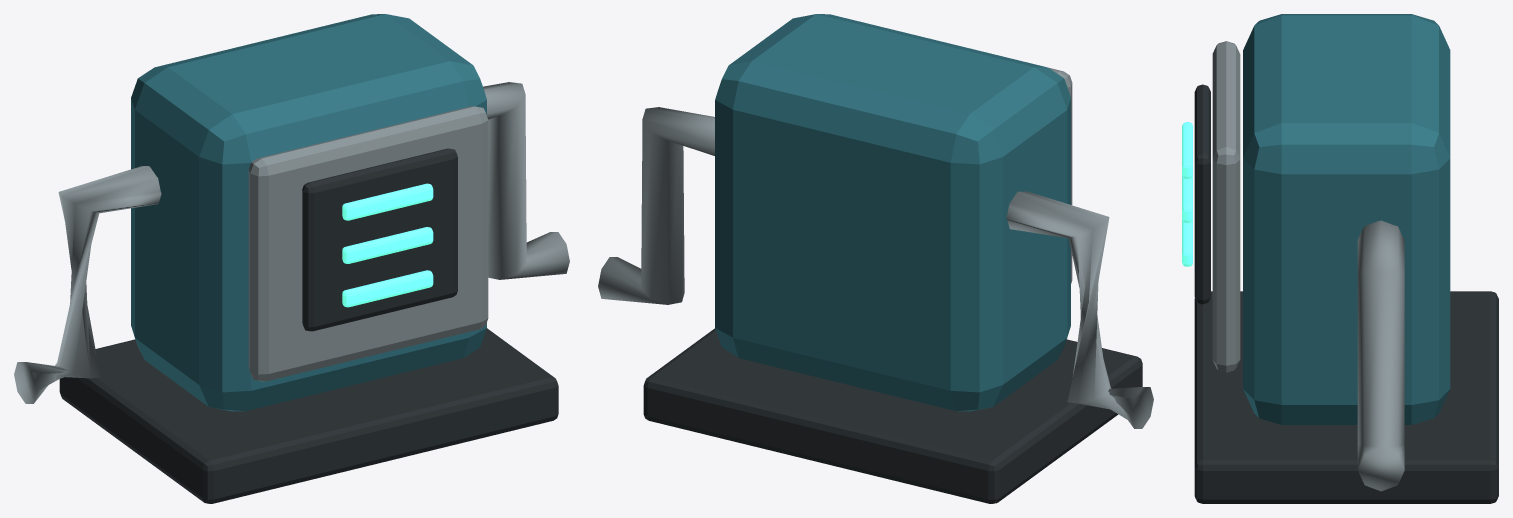
File: water-witness-b03.glb
3 renders of one model, left to right at view 1: azimuth 30°, elevation 25°; view 2: azimuth 150°, elevation 25°; view 3: azimuth 270°, elevation 25°, orthographic.
Parts seen in each view (by area): view 1: H01 batch 01 / Blackout / water line enamel, H01 batch 00 / Blackout / graphite elastomer, H01 batch 02 / Blackout / brushed titanium, H01 batch 03 / Blackout / operating indicator; view 2: H01 batch 01 / Blackout / water line enamel, H01 batch 00 / Blackout / graphite elastomer, H01 batch 02 / Blackout / brushed titanium; view 3: H01 batch 01 / Blackout / water line enamel, H01 batch 00 / Blackout / graphite elastomer, H01 batch 02 / Blackout / brushed titanium, H01 batch 03 / Blackout / operating indicator.
Boxes of the visible parts, x1,y1,x2,y2 form: H01 batch 01 / Blackout / water line enamel: (131,14,486,411); H01 batch 00 / Blackout / graphite elastomer: (59,148,558,503); H01 batch 02 / Blackout / brushed titanium: (14,82,569,403); H01 batch 03 / Blackout / operating indicator: (342,183,433,307); H01 batch 01 / Blackout / water line enamel: (715,14,1070,411); H01 batch 00 / Blackout / graphite elastomer: (643,328,1142,503); H01 batch 02 / Blackout / brushed titanium: (598,67,1153,428); H01 batch 01 / Blackout / water line enamel: (1243,14,1450,424); H01 batch 00 / Blackout / graphite elastomer: (1194,84,1498,503); H01 batch 02 / Blackout / brushed titanium: (1212,41,1404,491); H01 batch 03 / Blackout / operating indicator: (1182,122,1192,266).
Size of the model in its own units: 0.45 by 0.2795 by 0.229.
